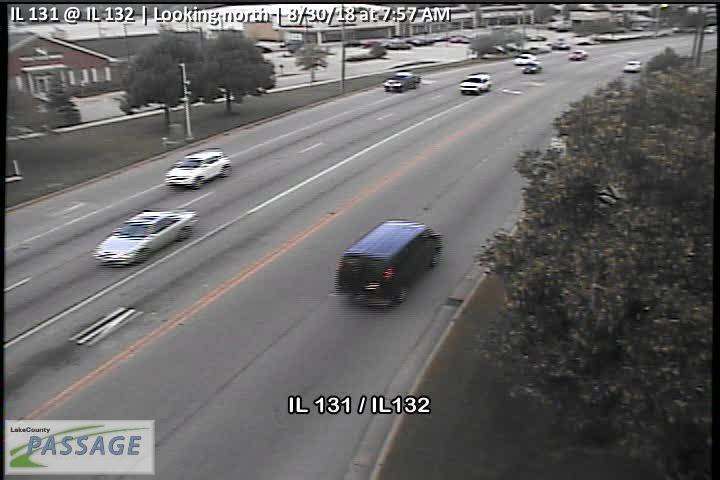SUV: (335, 216, 442, 309)
Sedan: (90, 209, 198, 269), (164, 149, 231, 191), (383, 70, 421, 95), (459, 72, 495, 95)
